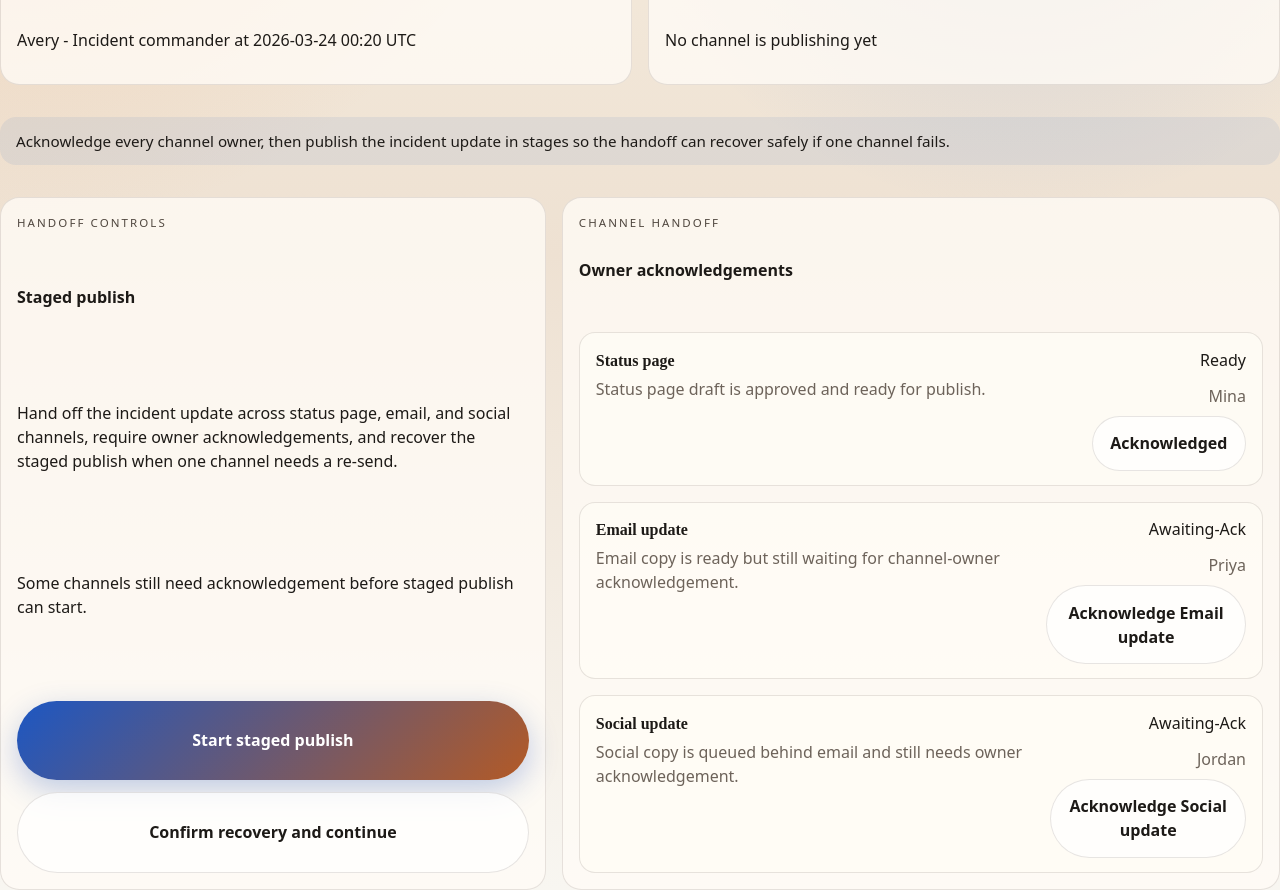
Test case: release communication handoff › requires all channel acknowledgements before staged publish can start
(page scrolled)
Step 1. Click the button "Start staged publish" → (273, 740), box [17,701,529,780]
Wait 220 ms
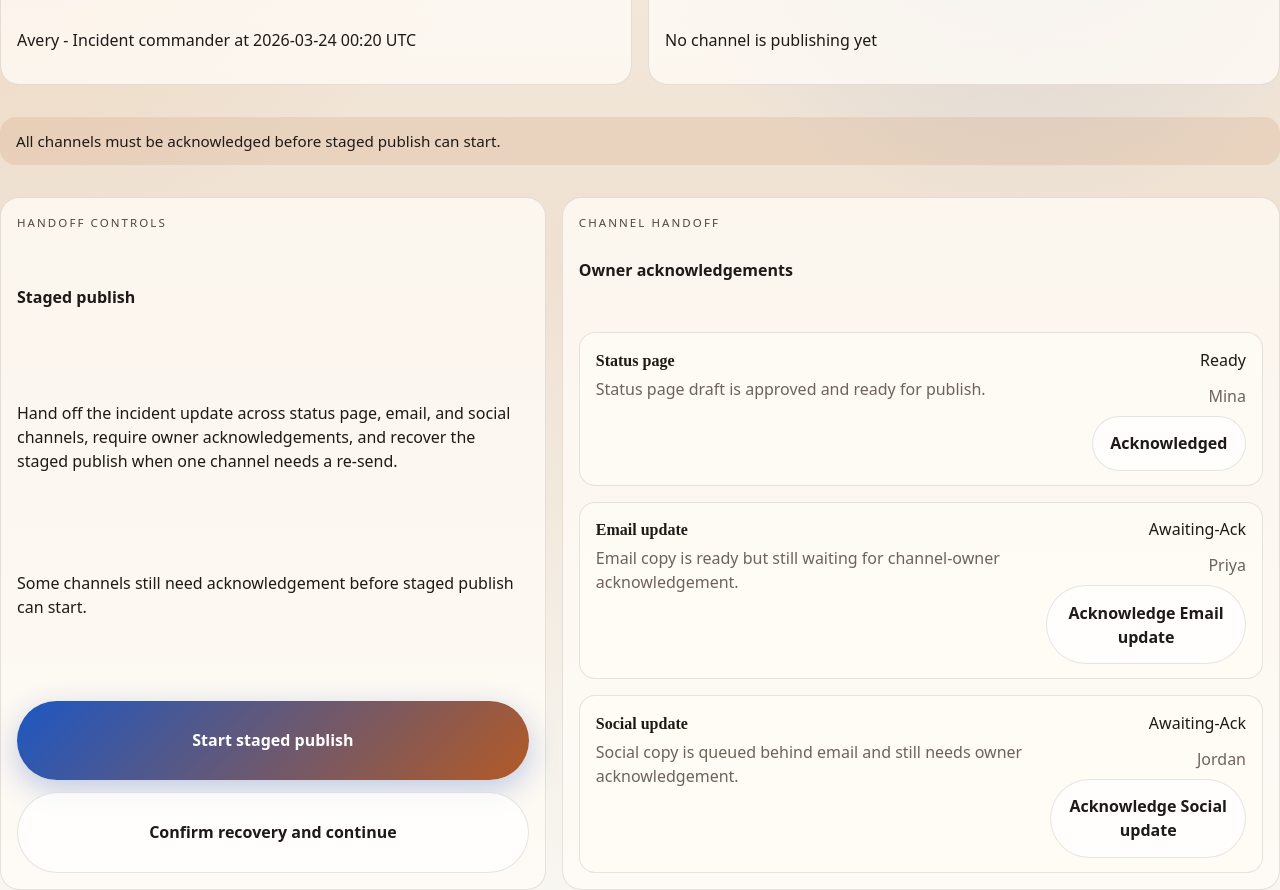
Expected: the text "All channels must be acknowledged before staged publish can start." is shown, [0,117,1279,165]
Step 2. Click the button "Acknowledge Email update" → (1146, 625), box [1046,585,1246,664]
Wait 220 ms
(page scrolled)
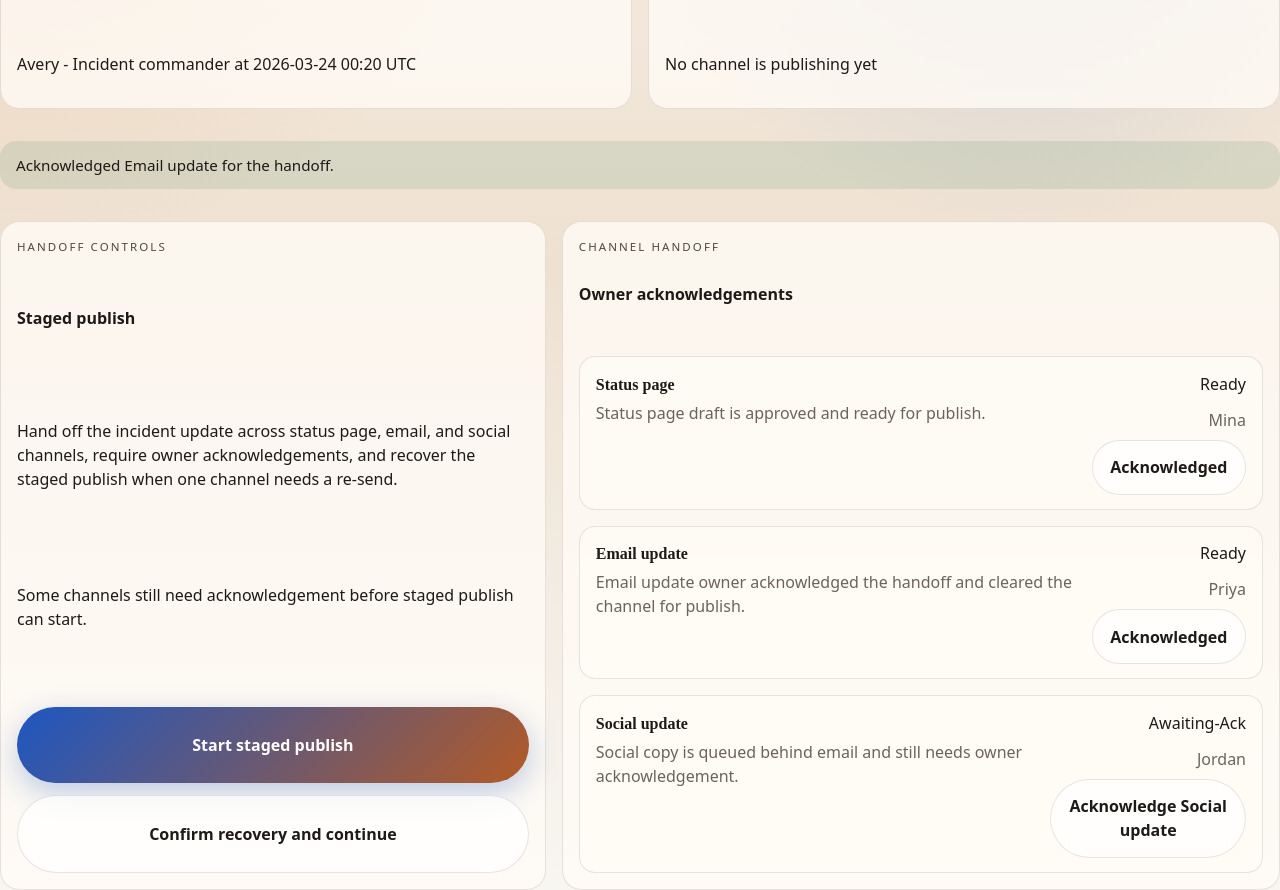
Step 3. Click the button "Acknowledge Social update" → (1148, 818), box [1050,779,1246,858]
Wait 220 ms
(page scrolled)
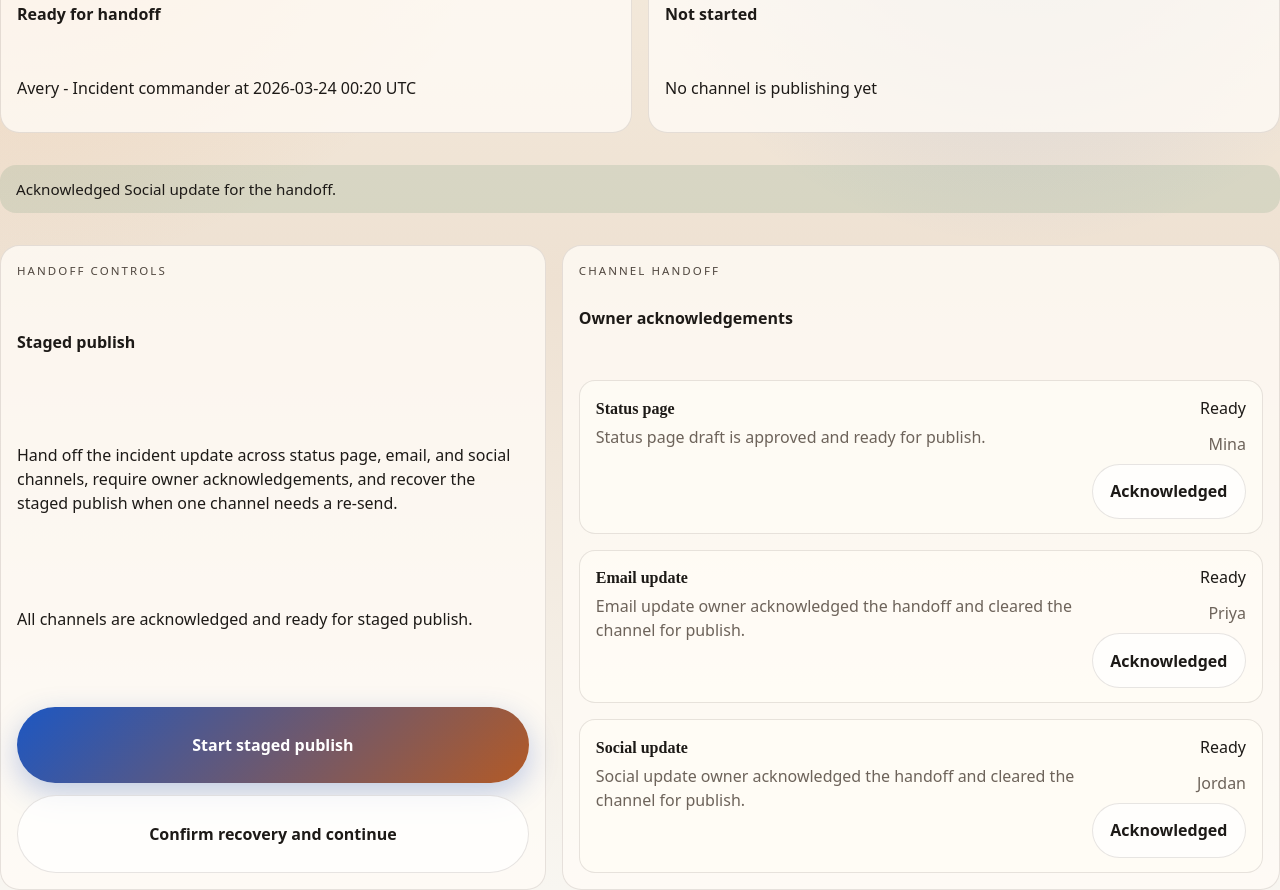
Expected: the text "All channels are acknowledged and ready for staged publish." is shown, [17,608,472,630]
